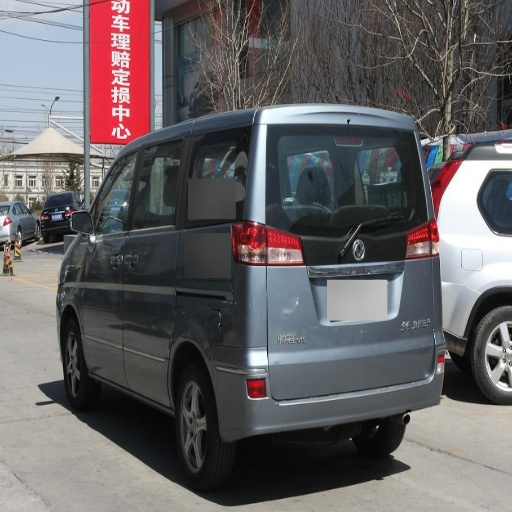back_bumper: (214, 259, 472, 434)
back_glass: (264, 126, 421, 223), (205, 131, 252, 179)
back_left_light: (232, 222, 267, 265)
tailgate: (308, 221, 416, 307)
trunk: (134, 223, 419, 374)
